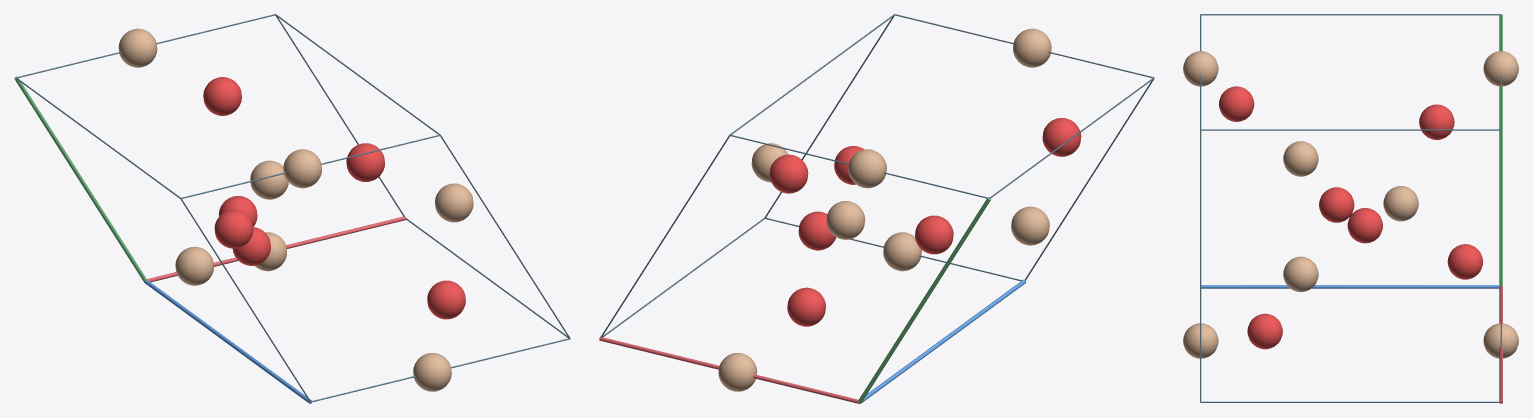
Rendered from quartz.glb.
3 views of the same model, side by side, from view 1: azimuth 30°, elevation 25°; view 2: azimuth 150°, elevation 25°; view 3: azimuth 270°, elevation 25° (orthographic). The views are drawn at different scales.
Parts seen in each view (by area): view 1: Si · Si · 1 (×7), Ô mạng và các trục a, b, c, O · O · 1 (×6); view 2: Si · Si · 1 (×7), Ô mạng và các trục a, b, c, O · O · 1 (×6); view 3: Si · Si · 1 (×7), O · O · 1 (×6), Ô mạng và các trục a, b, c.
Part boxes in pixels (x1,y1,x2,y2): Si · Si · 1 (×7): [118, 28, 473, 391]; Ô mạng và các trục a, b, c: [14, 14, 570, 403]; O · O · 1 (×6): [203, 77, 465, 319]; Si · Si · 1 (×7): [718, 28, 1051, 391]; Ô mạng và các trục a, b, c: [599, 14, 1154, 403]; O · O · 1 (×6): [769, 118, 1081, 326]; Si · Si · 1 (×7): [1183, 51, 1518, 358]; O · O · 1 (×6): [1219, 86, 1482, 349]; Ô mạng và các trục a, b, c: [1200, 14, 1502, 403].
Bounding box in the file's own units: 7.42 × 4.9 × 6.05.
